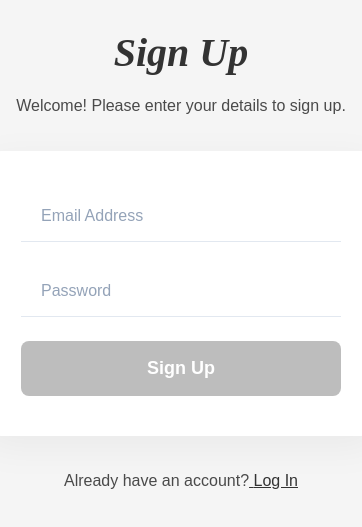
Test: Register › falls back to a generic message for non-Error rejections
Type "new@example.com" into the field labelled "Email Address".
click(181, 216); type("new@example.com")  # box [21,190,341,242]
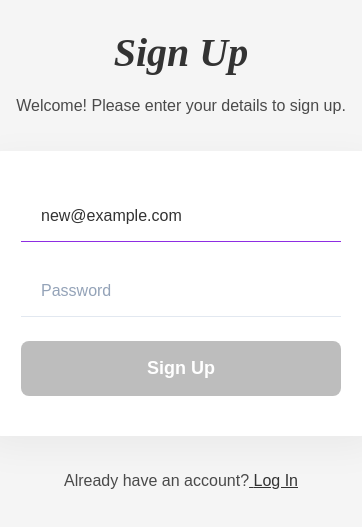
Type "secret1" into the password field labelled "Password".
click(181, 291); type("secret1")  # box [21,266,341,316]
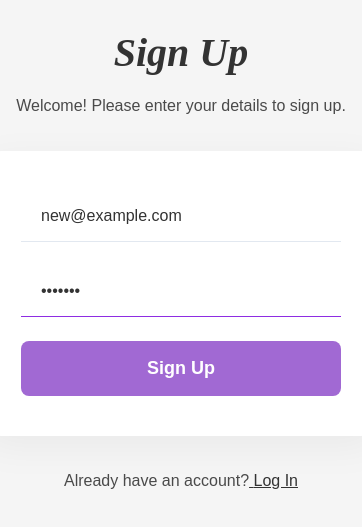
Click the button "Sign Up".
click(181, 368)  # box [21,340,341,396]
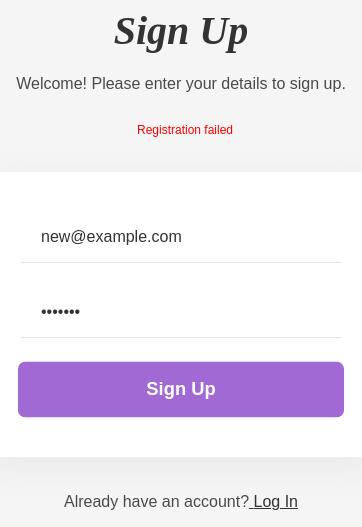
Expected: the text "Registration failed" is shown, [137,123,233,137]
